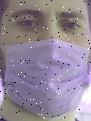with_mask: (1, 2, 91, 121)
